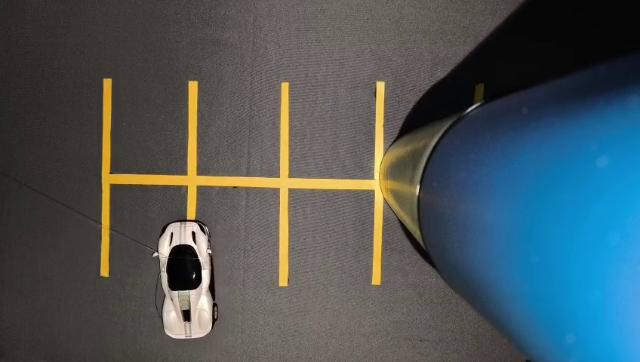toy_car: (139, 201, 247, 361)
